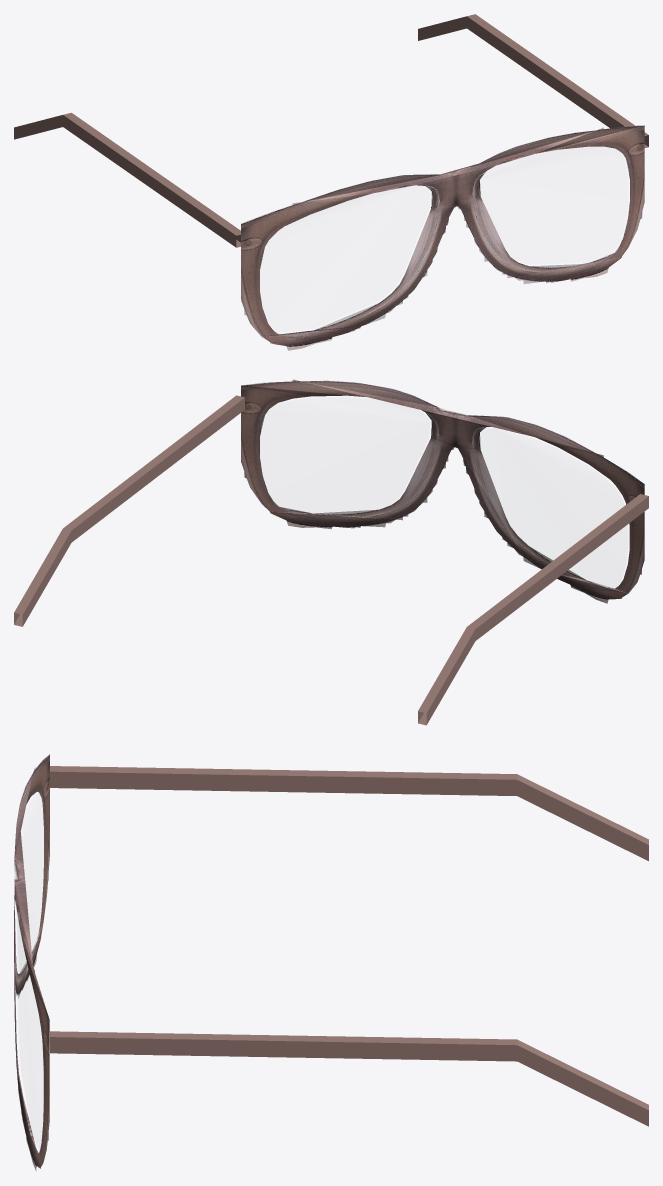
File: gothamstyle-matte-237_matte-grey.glb
3 renders of one model, top to bottom at view 1: azimuth 30°, elevation 25°; view 2: azimuth 150°, elevation 25°; view 3: azimuth 270°, elevation 25°, orthographic. The views are drawn at different scales.
Visible parts, largest first — view 1: frame_front, temple_viewer_left, temple_viewer_right; view 2: frame_front, temple_viewer_left, temple_viewer_right; view 3: temple_viewer_left, temple_viewer_right, frame_front.
Part boxes in pixels (<box>): frame_front: <box>241,125,644,350</box>; temple_viewer_left: <box>14,112,240,247</box>; temple_viewer_right: <box>418,14,648,147</box>; frame_front: <box>241,379,644,603</box>; temple_viewer_left: <box>418,494,648,725</box>; temple_viewer_right: <box>14,395,244,626</box>; temple_viewer_left: <box>50,766,648,861</box>; temple_viewer_right: <box>50,1031,648,1126</box>; frame_front: <box>14,754,49,1171</box>.
Bounding box in the file's own units: 0.1424 × 0.0513 × 0.141.
3 materials, 2 textured.
